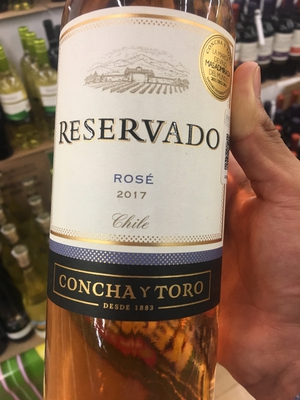reservado rose: (47, 3, 237, 400)
